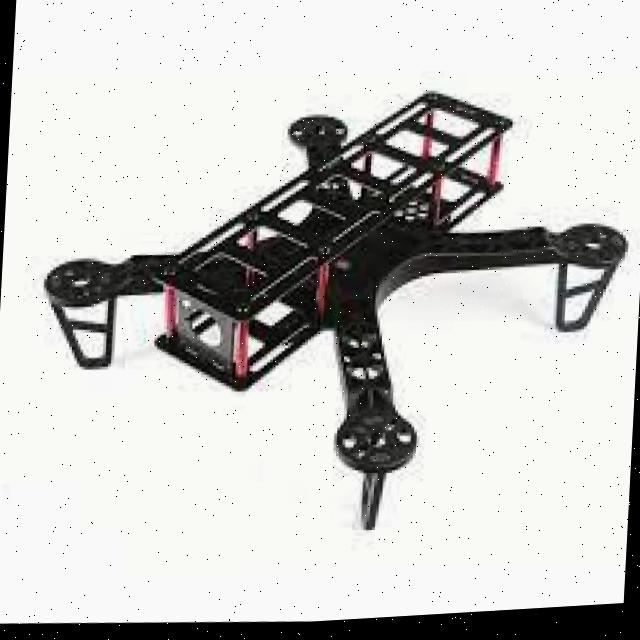drone: (31, 47, 638, 530)
